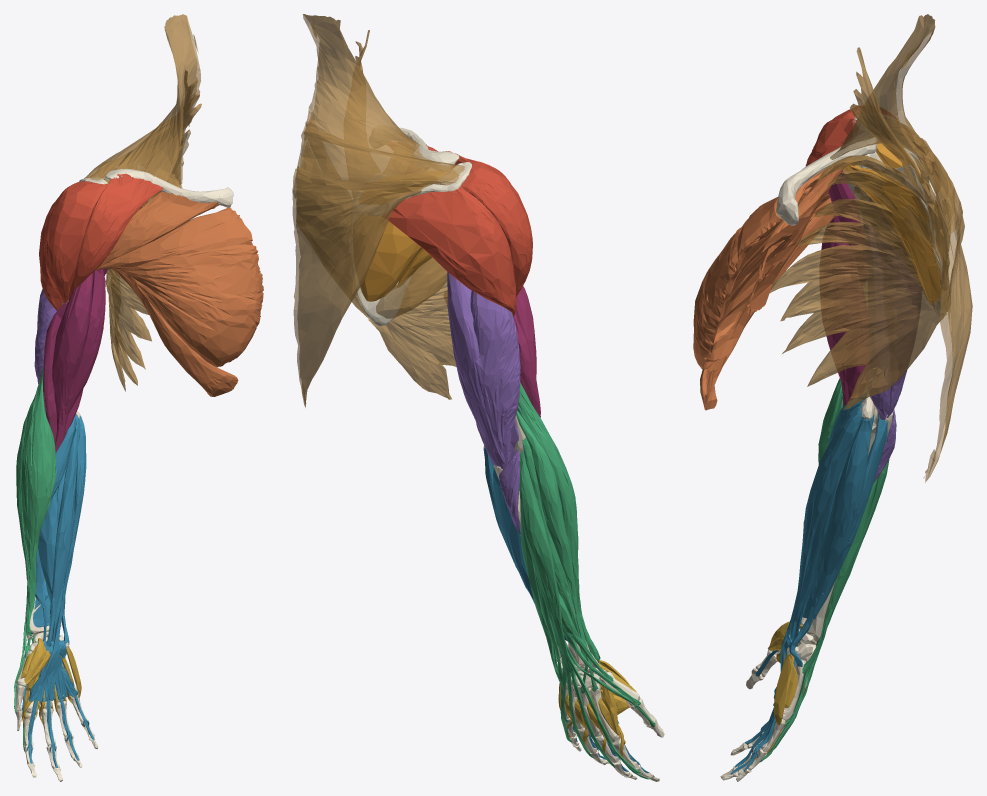
The model's file is upperlimb.glb.
3 views of the same model, side by side, from view 1: azimuth 30°, elevation 25°; view 2: azimuth 150°, elevation 25°; view 3: azimuth 270°, elevation 25° (orthographic). The views are drawn at different scales.
Visible parts, largest first — view 1: pectoral, forearmflex, back, deltoid, armflex, forearmext, bones, handm, armext; view 2: back, forearmext, deltoid, armext, bones, cuff, forearmflex, armflex, handm; view 3: back, pectoral, forearmflex, armflex, armext, bones, cuff, forearmext, handm, deltoid.
Boxes of the visible parts, x1,y1,x2,y2 form: pectoral: (95, 191, 263, 396); forearmflex: (22, 414, 94, 767); back: (84, 14, 201, 391); deltoid: (39, 173, 163, 310); armflex: (43, 268, 107, 452); forearmext: (14, 367, 56, 752); bones: (15, 166, 233, 781); handm: (20, 638, 81, 726); armext: (34, 289, 56, 384); back: (292, 14, 464, 407); forearmext: (516, 382, 655, 779); deltoid: (382, 146, 532, 316); armext: (447, 272, 520, 534); bones: (351, 126, 664, 781); cuff: (353, 171, 446, 301); forearmflex: (483, 447, 649, 774); armflex: (513, 286, 540, 417); handm: (558, 660, 636, 761); back: (770, 14, 972, 482); pectoral: (693, 159, 850, 410); forearmflex: (730, 394, 887, 774); armflex: (820, 170, 867, 406); armext: (863, 198, 921, 482); bones: (720, 115, 947, 781); cuff: (843, 141, 948, 304); forearmext: (749, 378, 889, 762); handm: (766, 621, 807, 753); deltoid: (805, 106, 895, 166).
Bounding box in the file's own units: 0.3235 × 0.8529 × 0.2439.
